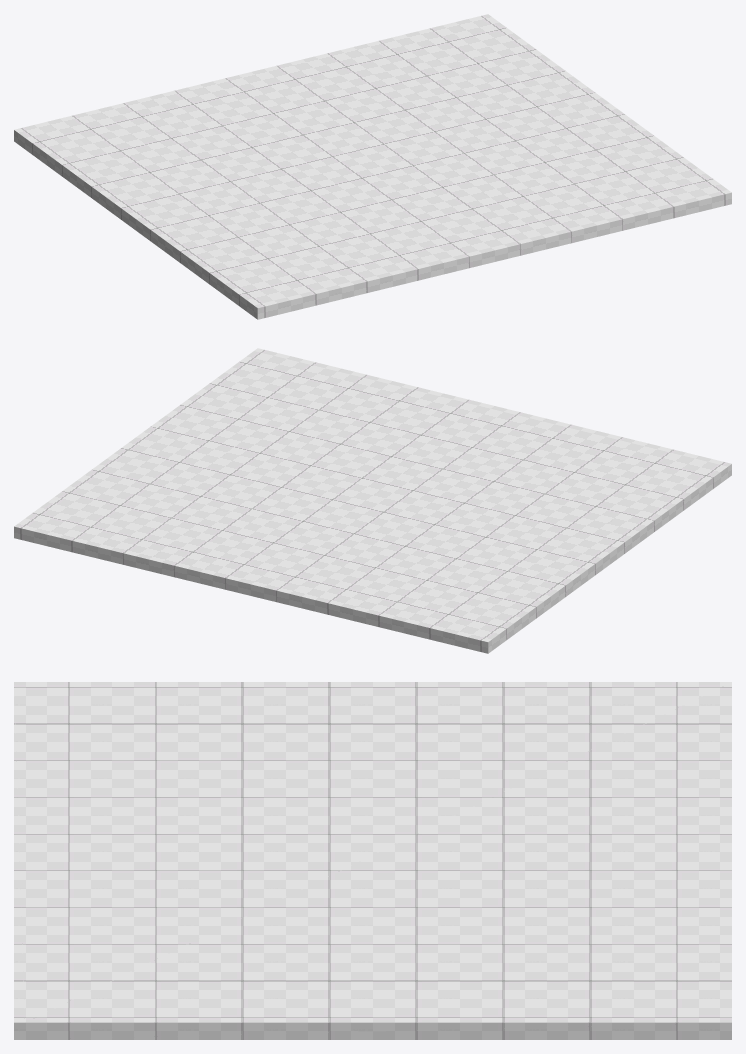
The model's file is DK_CeilingA.FBX.
3 views of the same model, one above another, from view 1: azimuth 30°, elevation 25°; view 2: azimuth 150°, elevation 25°; view 3: azimuth 270°, elevation 25° (orthographic). The views are drawn at different scales.
Parts seen in each view (by area): view 1: DK_CeilingA; view 2: DK_CeilingA; view 3: DK_CeilingA.
Boxes of the visible parts, <box> form: DK_CeilingA: <box>14,14,731,319</box>; DK_CeilingA: <box>14,348,731,653</box>; DK_CeilingA: <box>14,682,731,1039</box>.
Size of the model in its own units: 37.14 by 0.8665 by 33.08.
